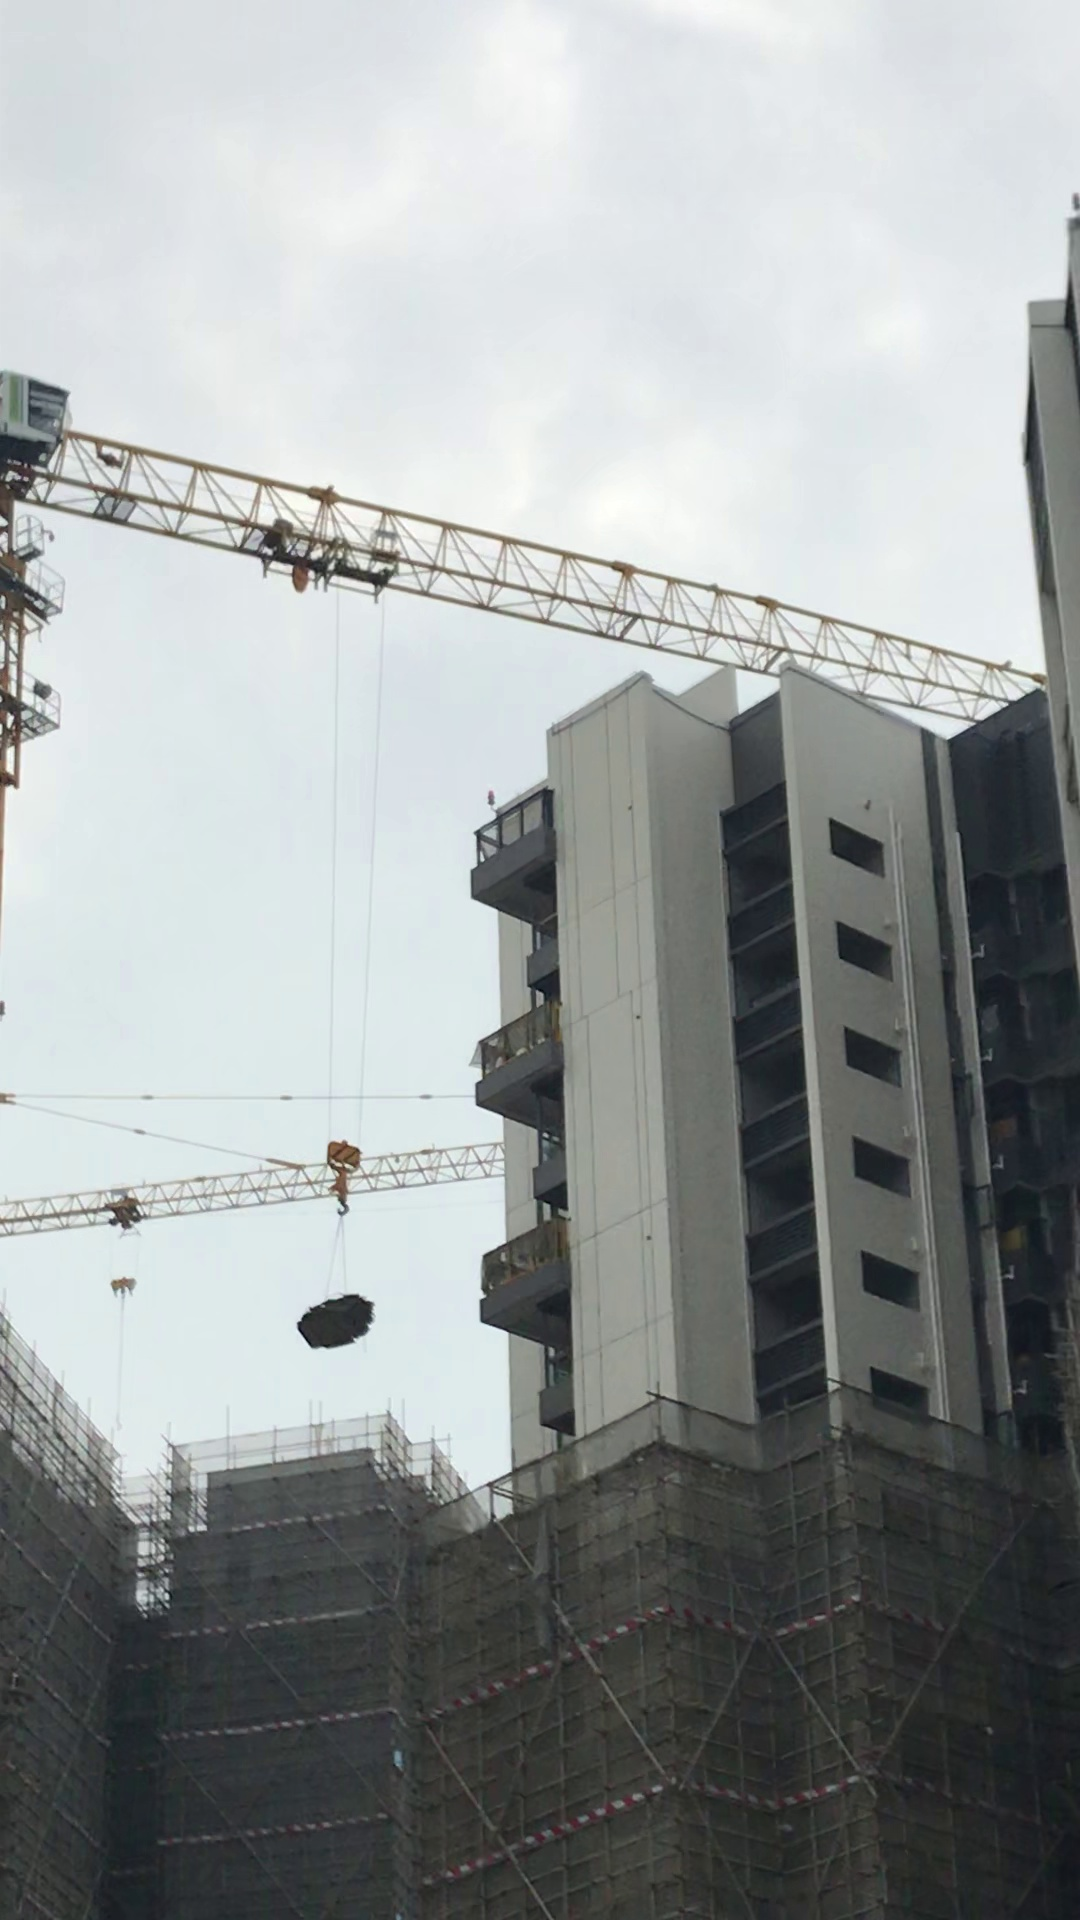hook: (322, 1127, 367, 1222)
